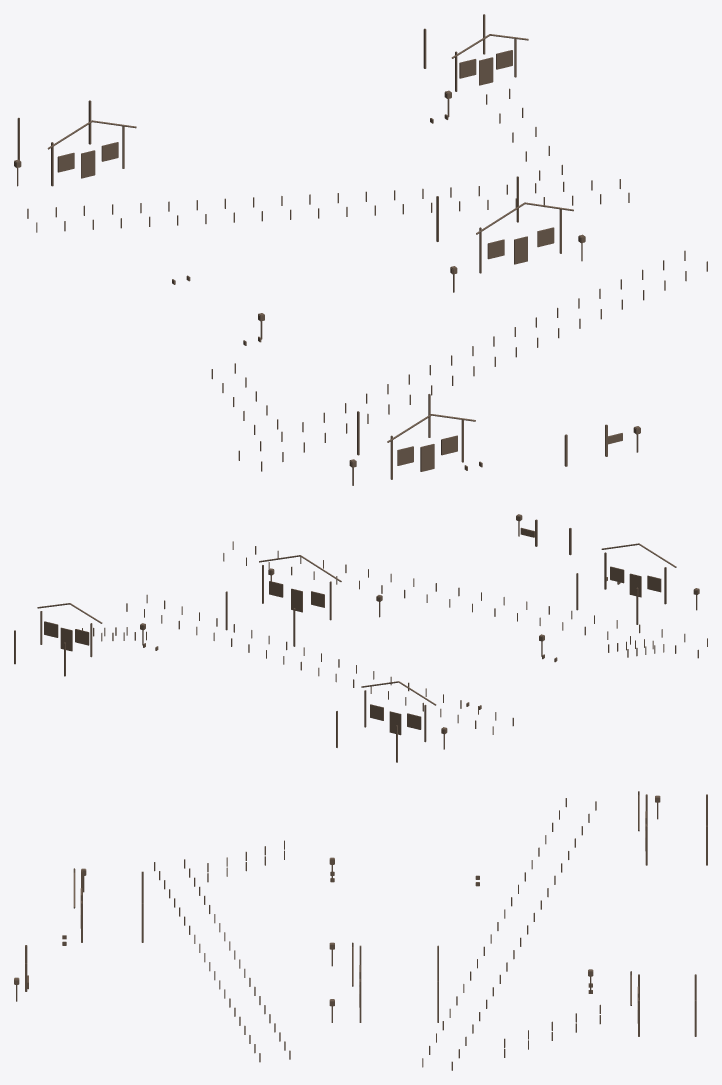
Rendered from SM_DarkWood.fbx.
3 renders of one model, top to bottom at view 1: azimuth 30°, elevation 25°; view 2: azimuth 150°, elevation 25°; view 3: azimuth 270°, elevation 25°, orthographic. The views are drawn at different scales.
Parts seen in each view (by area): view 1: SM_DarkWood; view 2: SM_DarkWood; view 3: SM_DarkWood.
Part boxes in pixels (box(x1,y1,x2,y2)): SM_DarkWood: box(14, 14, 707, 485); SM_DarkWood: box(14, 514, 707, 762); SM_DarkWood: box(14, 791, 707, 1070).
Size of the model in its own units: 5856 by 7253 by 1377.
